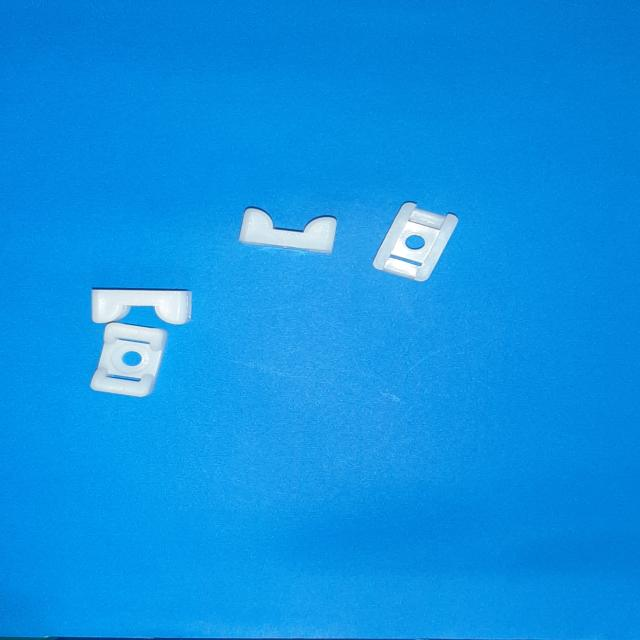false_1: (373, 202, 458, 281)
false_2: (238, 208, 337, 254), (92, 289, 192, 325)
true: (90, 322, 167, 396)
true_center: (122, 352, 142, 366)
